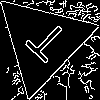T: (17, 17, 71, 71)
